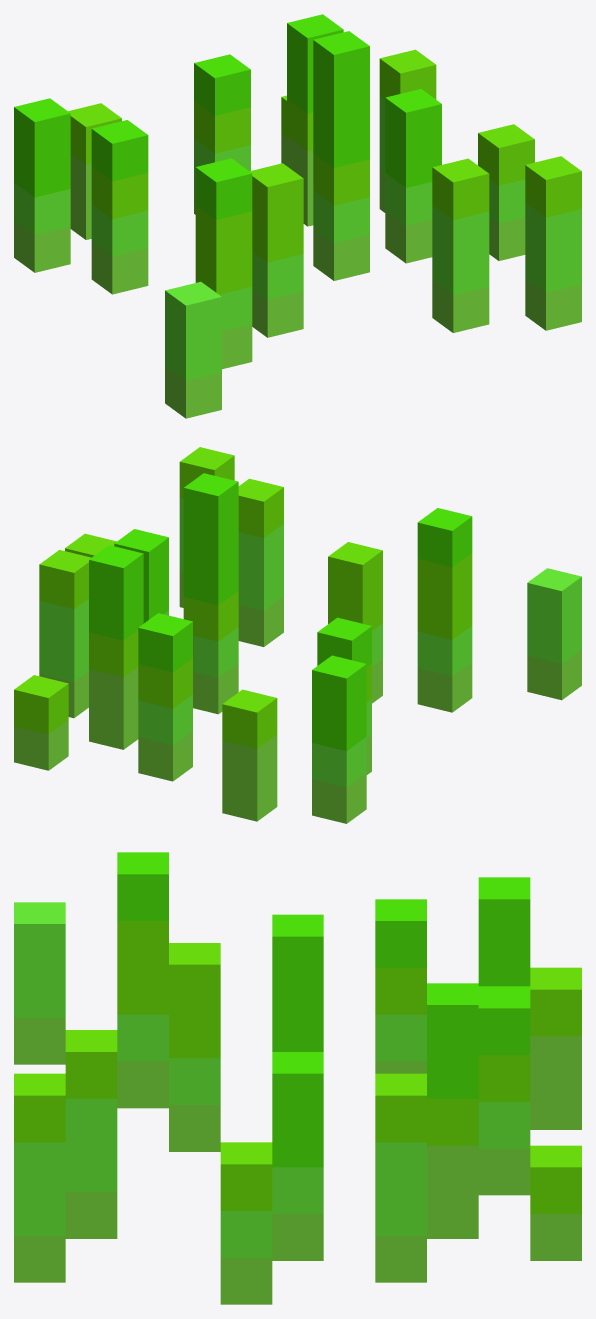
Rendered from Grass4.obj.
The picture shows the model from 3 angles, top to bottom: view 1: azimuth 30°, elevation 25°; view 2: azimuth 150°, elevation 25°; view 3: azimuth 270°, elevation 25°; orthographic projection. The views are drawn at different scales.
Size of the model in its own units: 1.2 by 0.6 by 1.1.
Materials: 1 (1 with a texture image).
